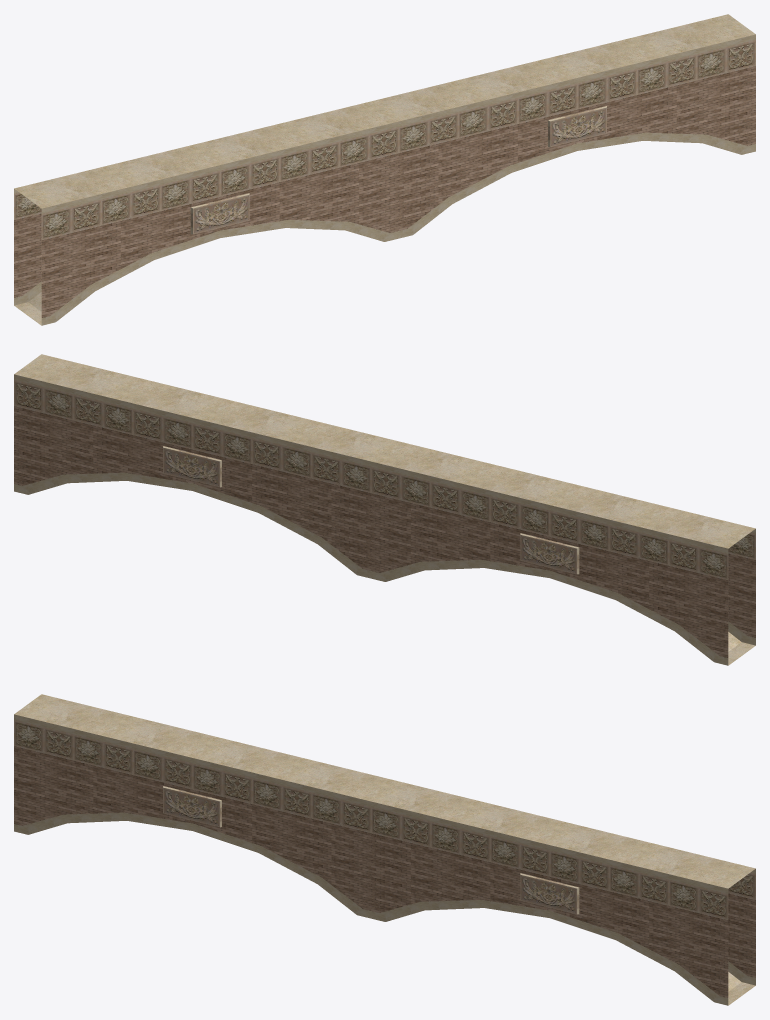
Rendered from thm_nboo_imprv_archway_wide_s01_l1.fbx.
3 views of the same model, one above another, from view 1: azimuth 30°, elevation 25°; view 2: azimuth 150°, elevation 25°; view 3: azimuth 330°, elevation 25° (orthographic).
Visible parts, largest first — view 1: mesh_node; view 2: mesh_node; view 3: mesh_node.
Boxes of the visible parts, left/top/right/bottom form: mesh_node: left=14, top=14, right=755, bottom=325; mesh_node: left=14, top=354, right=755, bottom=665; mesh_node: left=14, top=694, right=755, bottom=1005.
Bounding box in the file's own units: 16 × 2.51 × 1.16.
